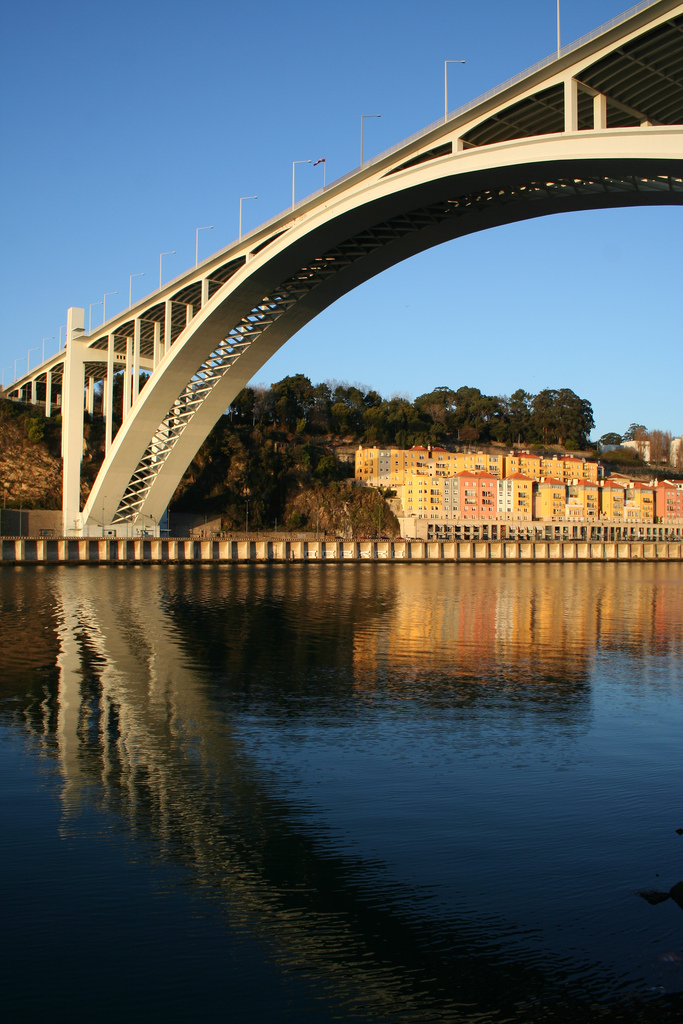arrabida: (0, 0, 682, 537)
